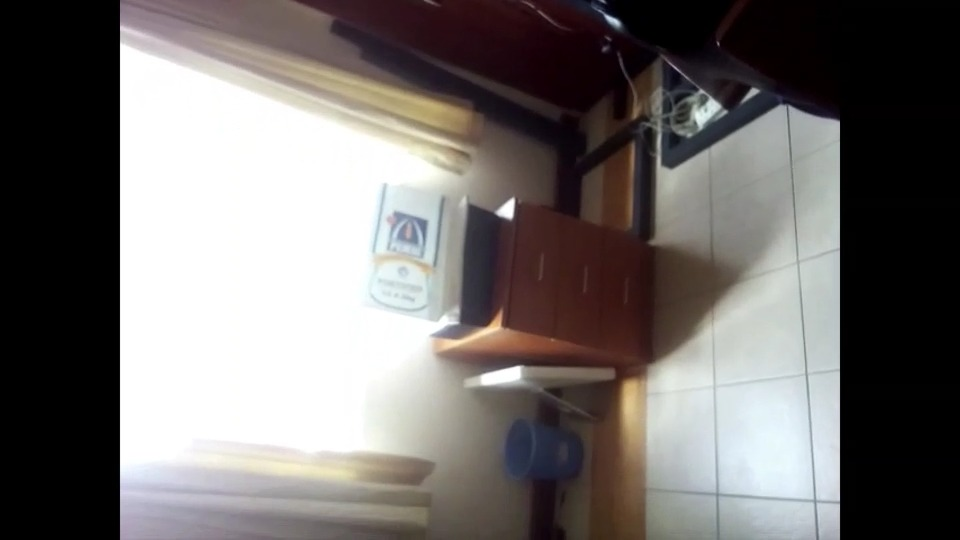wheat_flour_blue_label: (364, 183, 461, 317)
